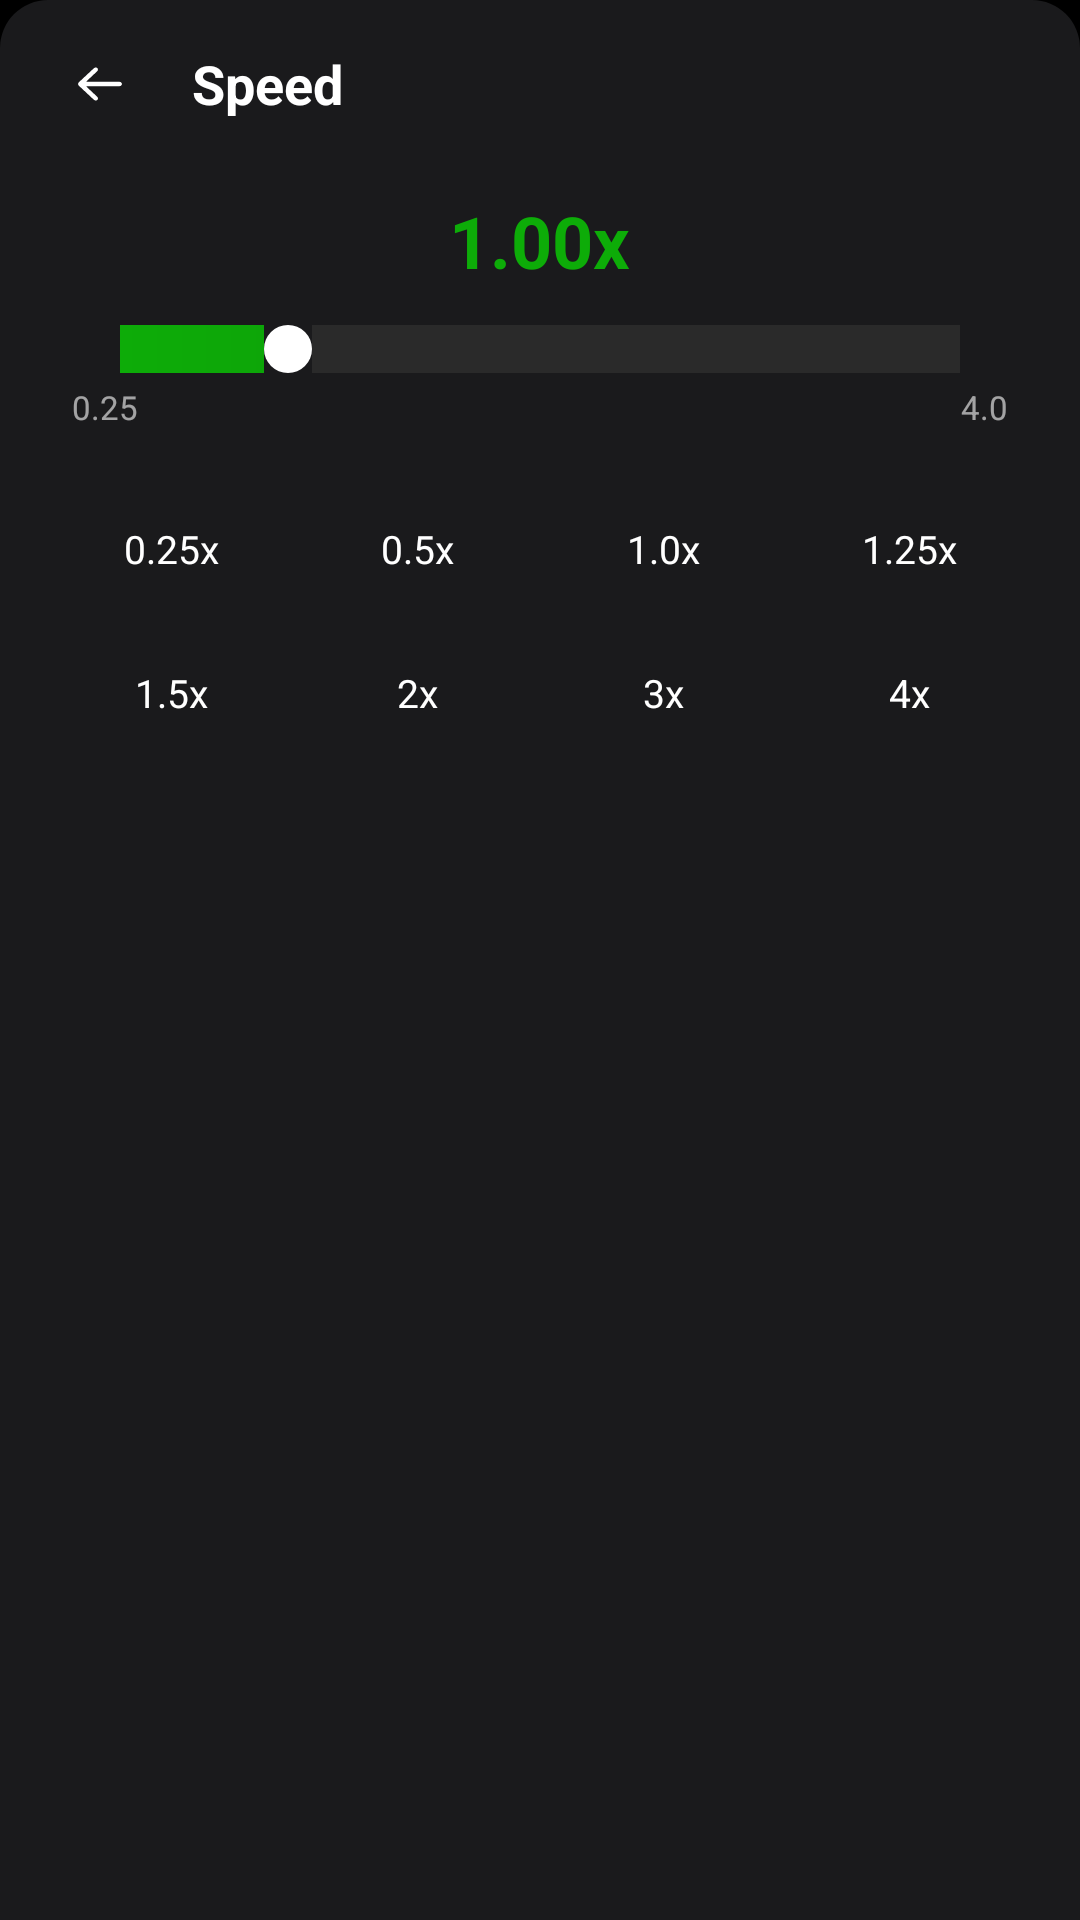

Icons on this 1080×1920 Android screen, each with the point to tap as (x=x, y=y):
back: (x=100, y=84)
